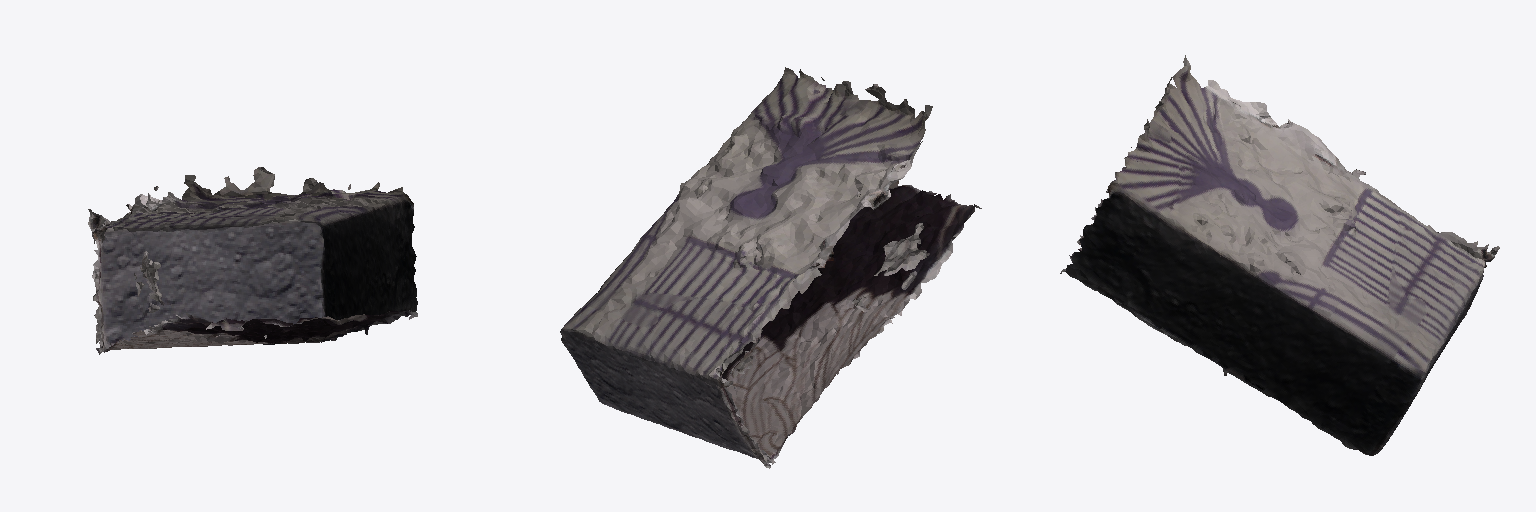
3 views of the same model, side by side, from view 1: azimuth 30°, elevation 25°; view 2: azimuth 150°, elevation 25°; view 3: azimuth 270°, elevation 25° (orthographic).
Bounding box in the file's own units: 4.47 × 4.48 × 6.2.
Materials: 1 (1 with a texture image).